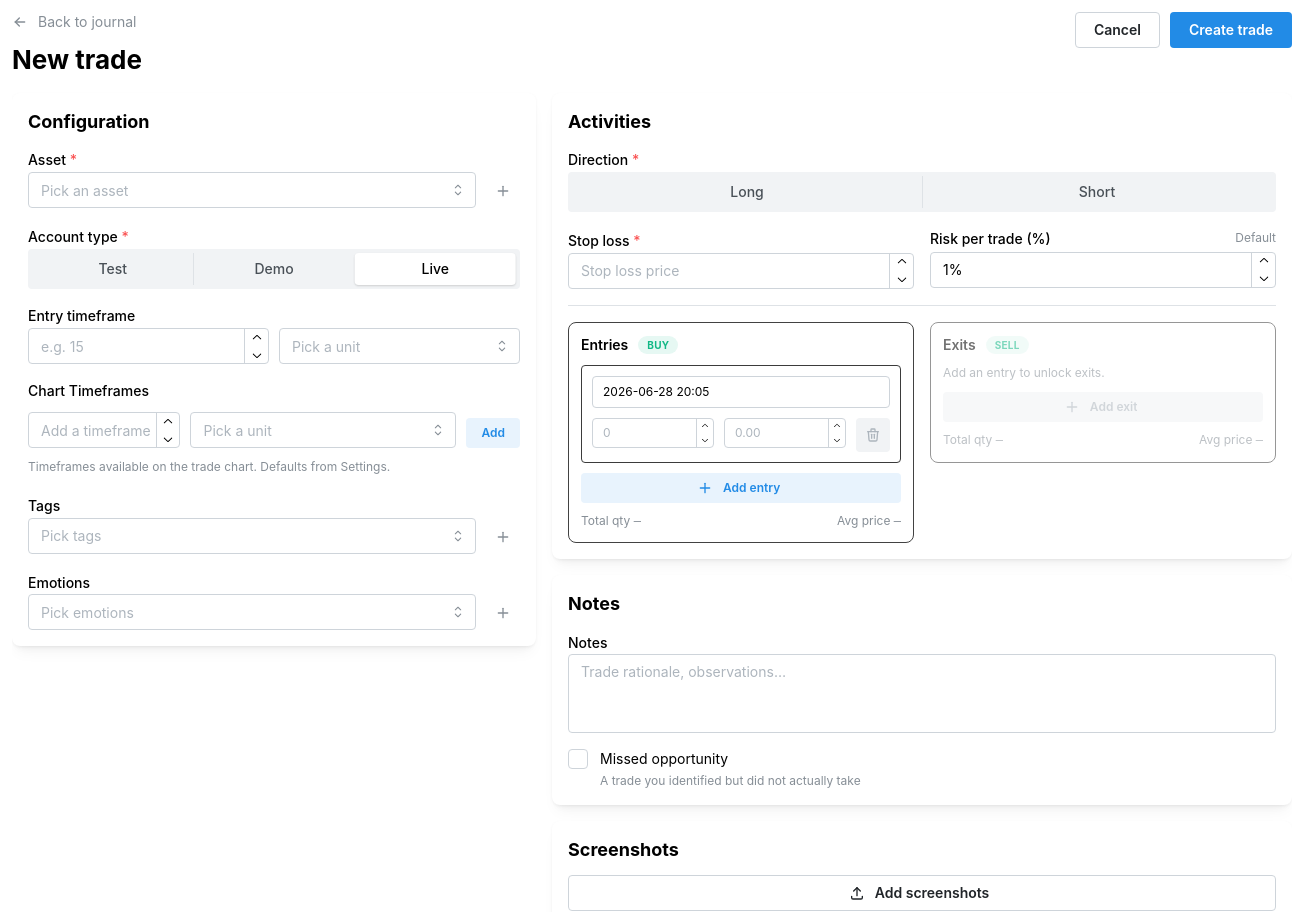
Test case: TradeFormPage — create mode › shows a server error when the save fails
The image size is (1304, 912).
Check: the heading "New trade" is shown, box [12,42,142,77]
Click the field with placeholder "Pick an asset" at (252, 190), box [28,172,476,208]
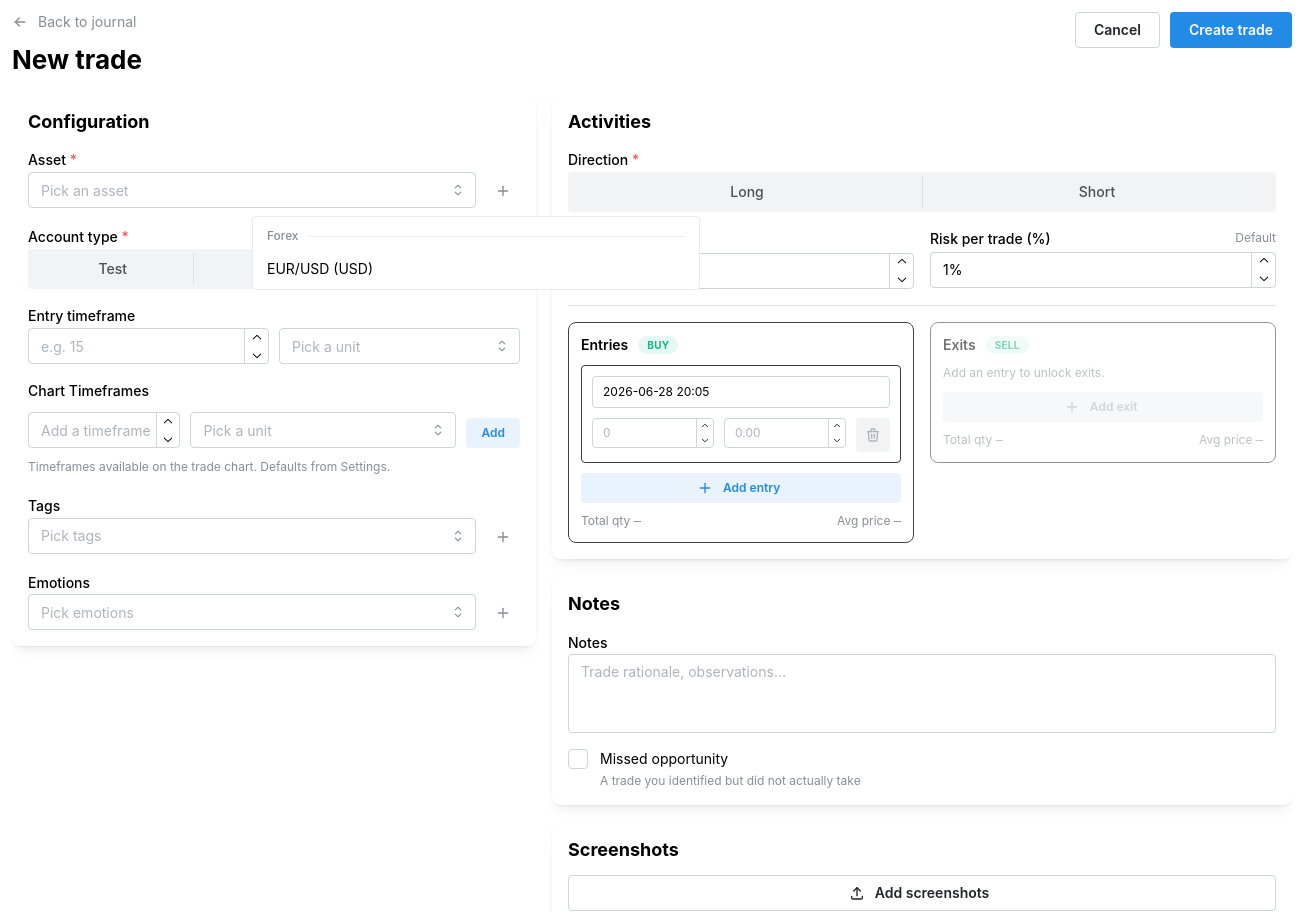
Click the option "EUR/USD (USD)" at (320, 268), box [267,260,373,277]
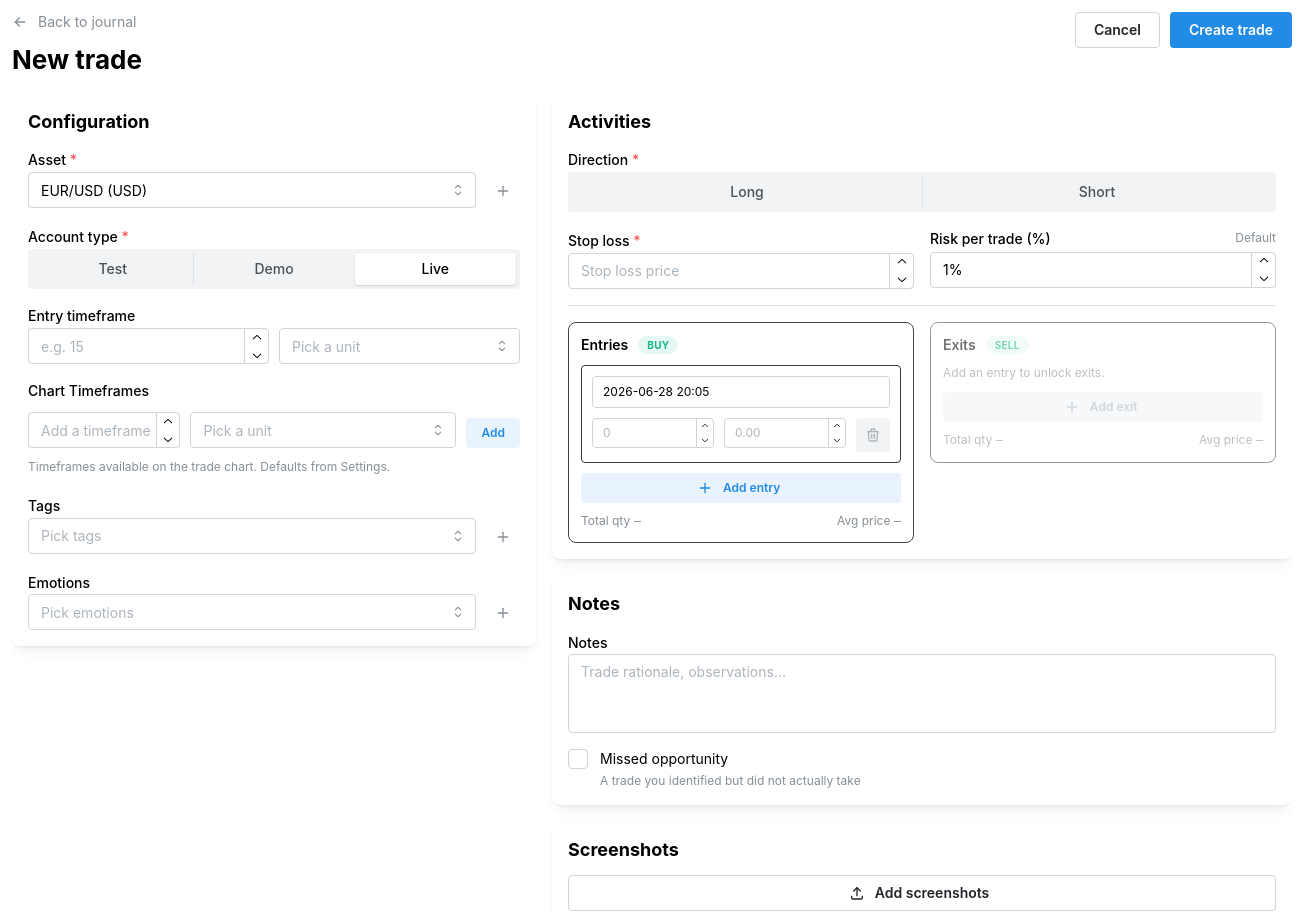
Click the text "Long" at (747, 192), box [730,183,764,200]
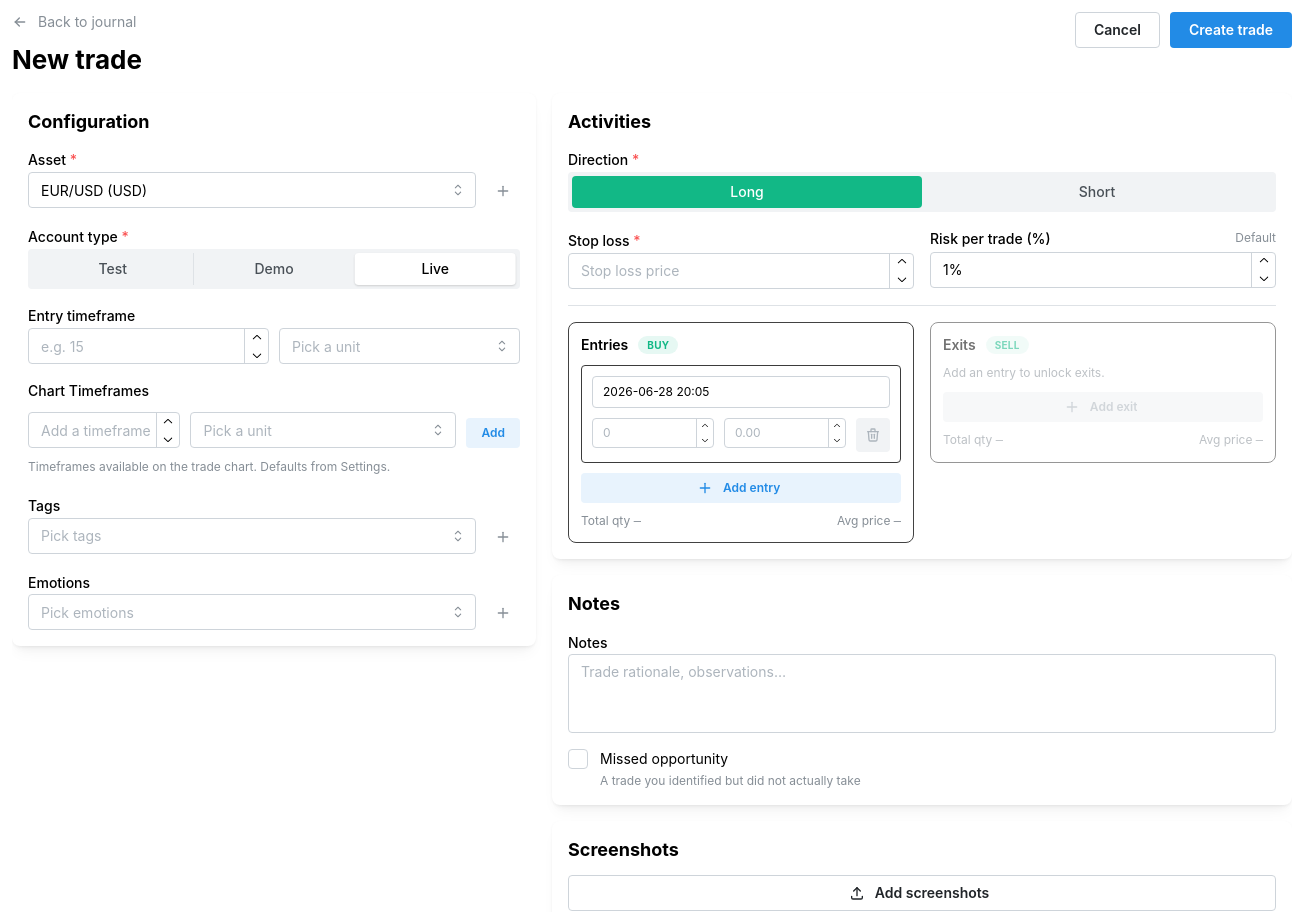
Type "1000" into the field named "Quantity" at (653, 433), box [592,418,714,448]
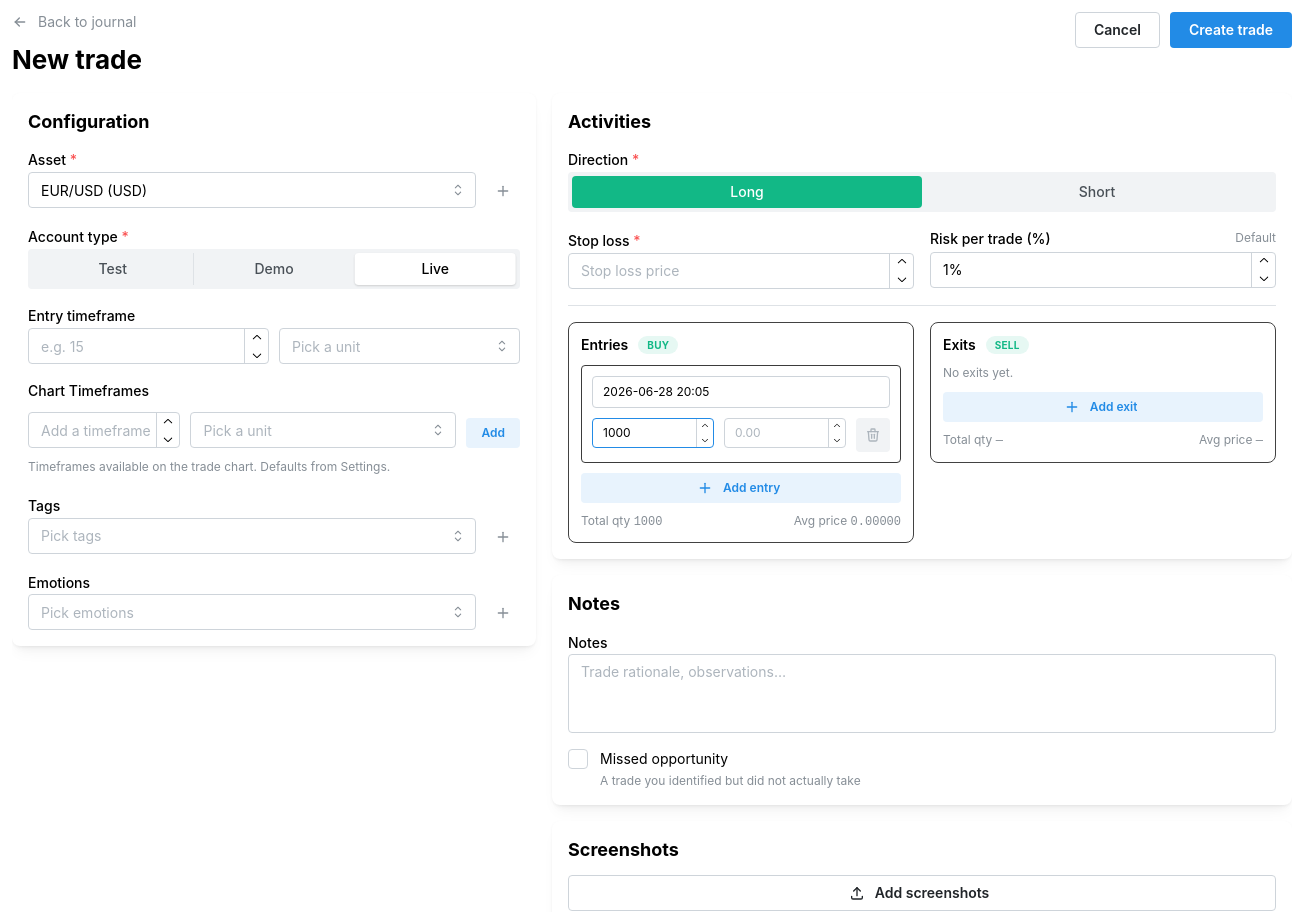
Type "1.08" into the field named "Price" at (785, 433), box [724,418,846,448]
Type "1.07" into the field labelled "Stop loss" at (741, 271), box [568,253,914,289]
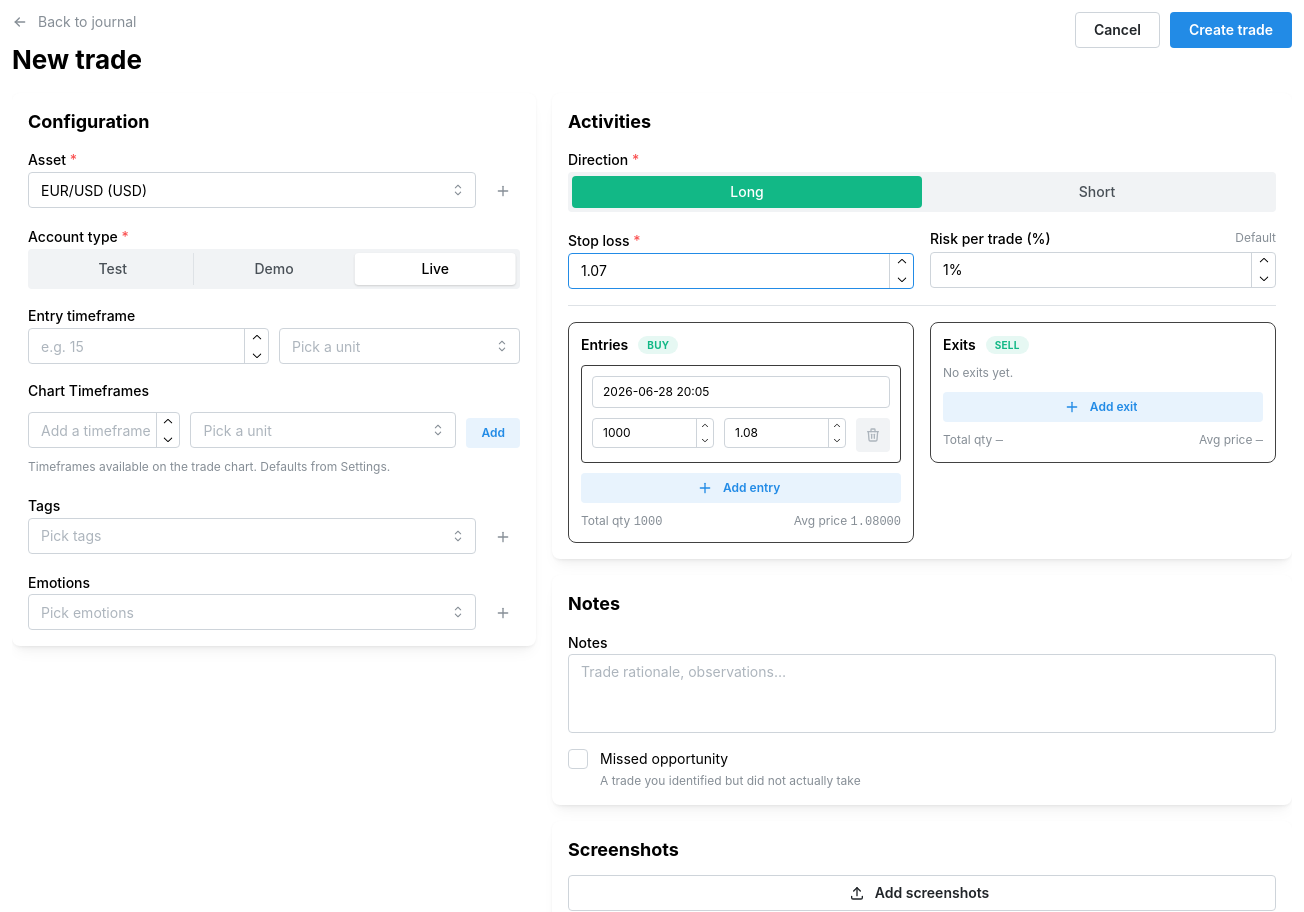
Click the button "Create trade" at (1231, 30), box [1170,12,1292,48]
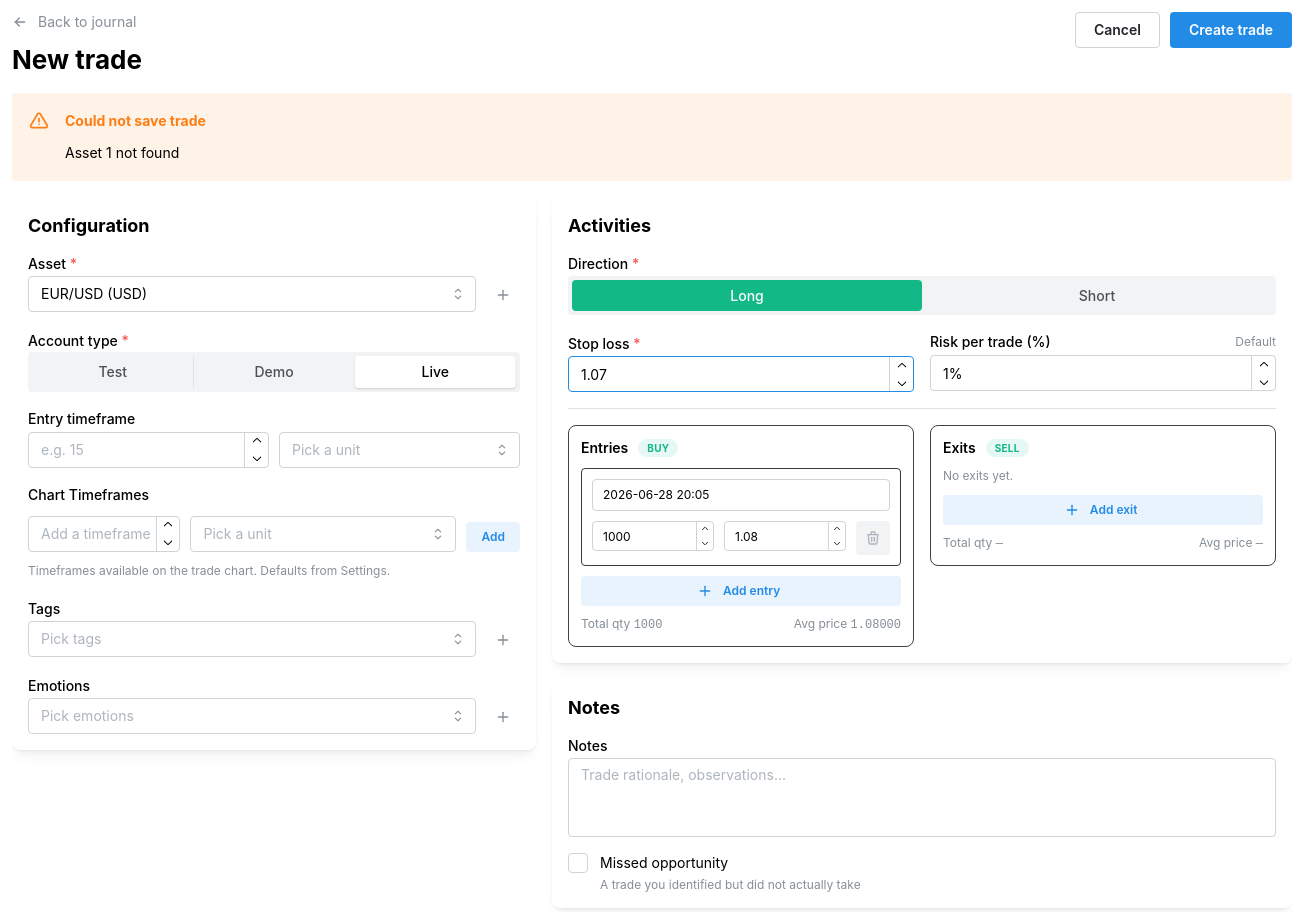
Check: the text "Asset 1 not found" is shown, box [65,144,179,161]
